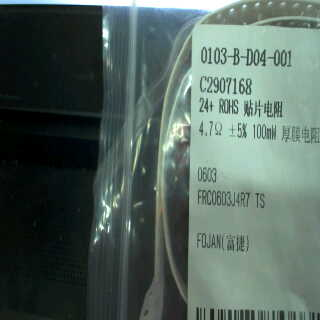4.7R: (195, 118, 226, 140)
